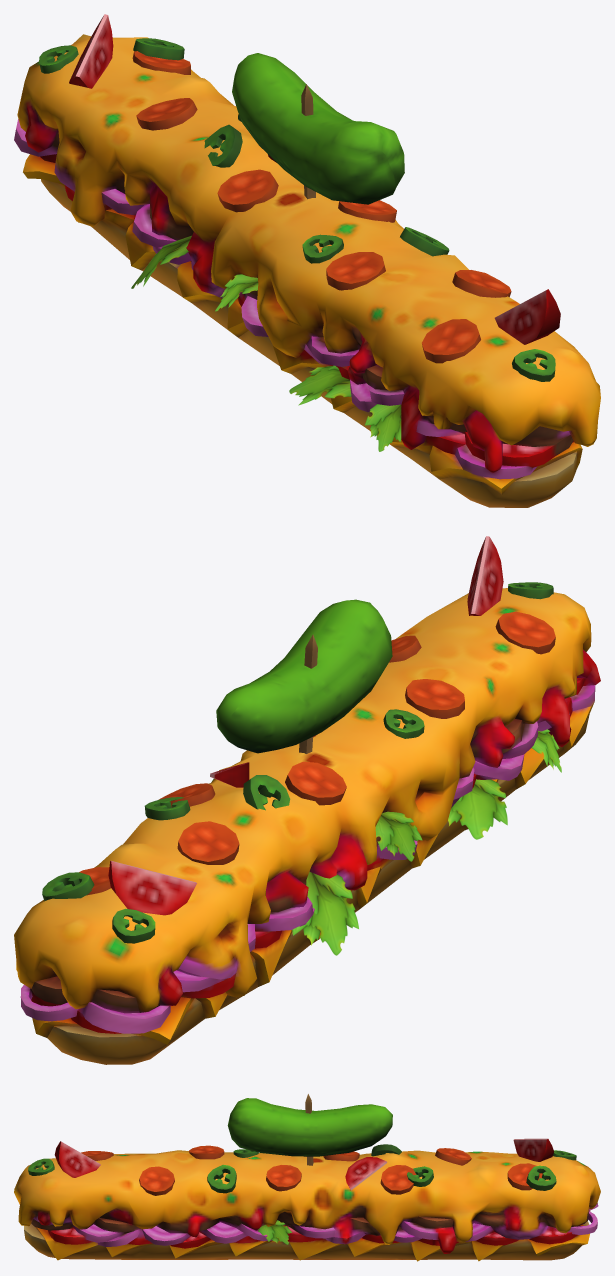
File: baguette.glb
3 renders of one model, top to bottom at view 1: azimuth 30°, elevation 25°; view 2: azimuth 150°, elevation 25°; view 3: azimuth 270°, elevation 25°, orthographic. The views are drawn at different scales.
Parts seen in each view (by area): view 1: revival_baguette; view 2: revival_baguette; view 3: revival_baguette.
Part boxes in pixels (x1=…): revival_baguette: x1=14, y1=14, x2=600, y2=507; revival_baguette: x1=14, y1=536, x2=600, y2=1064; revival_baguette: x1=14, y1=1094, x2=600, y2=1261.
Bounding box in the file's own units: 1.6 × 1.81 × 6.01.
2 materials, 2 textured.
